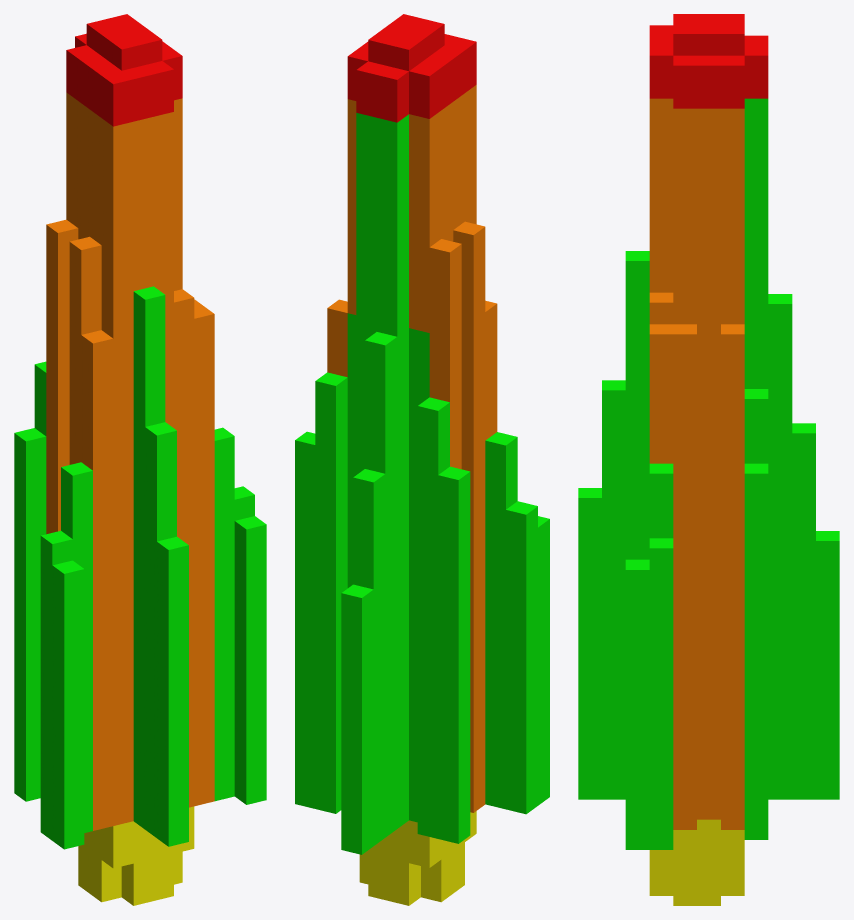
Rendered from Alien_missile_1.gltf.
3 views of the same model, side by side, from view 1: azimuth 30°, elevation 25°; view 2: azimuth 150°, elevation 25°; view 3: azimuth 270°, elevation 25° (orthographic).
Visible parts, largest first — view 1: Layer.1; view 2: Layer.1; view 3: Layer.1.
Part boxes in pixels (x1,y1,x2,y2): Layer.1: [14, 14, 266, 905]; Layer.1: [295, 14, 549, 905]; Layer.1: [578, 14, 839, 905].
Size of the model in its own units: 10 by 40 by 11.
1 material, 1 textured.
